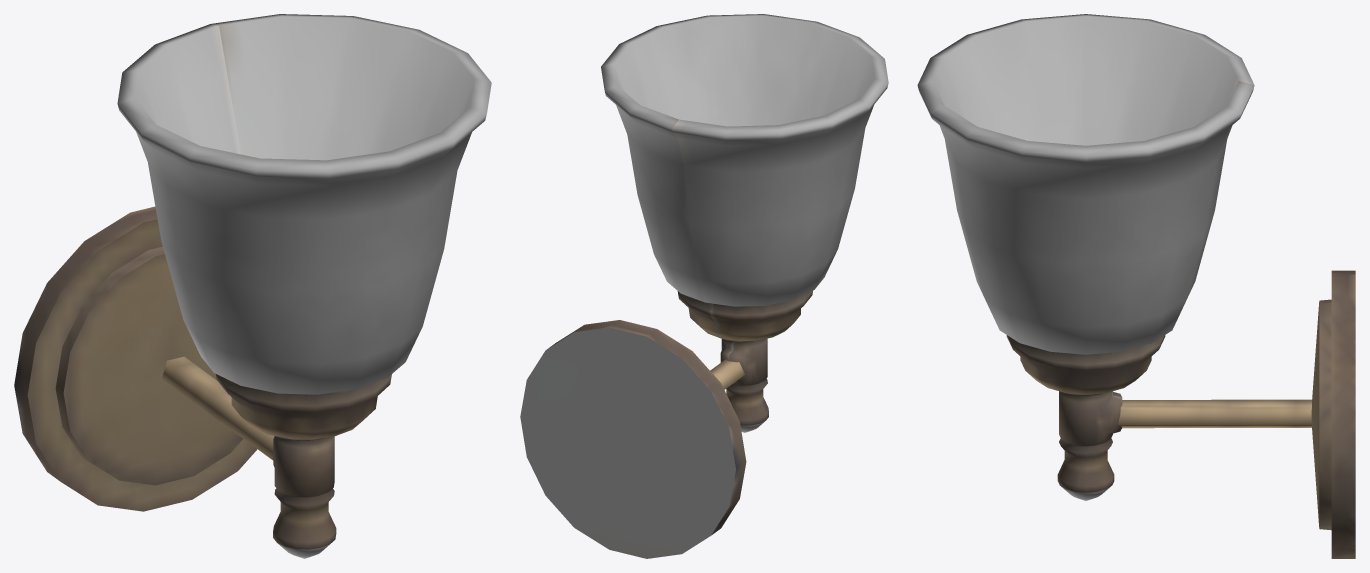
File: Lamp_Wall_Chan.FBX
3 views of the same model, side by side, from view 1: azimuth 30°, elevation 25°; view 2: azimuth 150°, elevation 25°; view 3: azimuth 270°, elevation 25° (orthographic). The views are drawn at different scales.
Parts seen in each view (by area): view 1: Lamp_Wall_Chan; view 2: Lamp_Wall_Chan; view 3: Lamp_Wall_Chan.
Boxes of the visible parts, left/top/right/bottom form: Lamp_Wall_Chan: left=14, top=14, right=491, bottom=558; Lamp_Wall_Chan: left=520, top=14, right=888, bottom=558; Lamp_Wall_Chan: left=917, top=14, right=1355, bottom=558.
Bounding box in the file's own units: 14.6 × 22.1 × 18.97.
